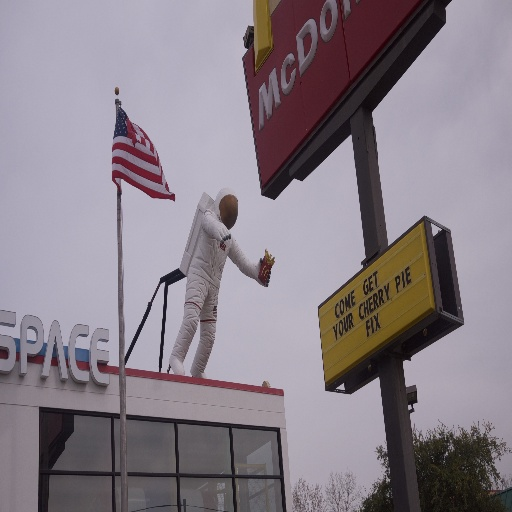hand: (247, 238, 275, 292), (214, 219, 231, 246)
